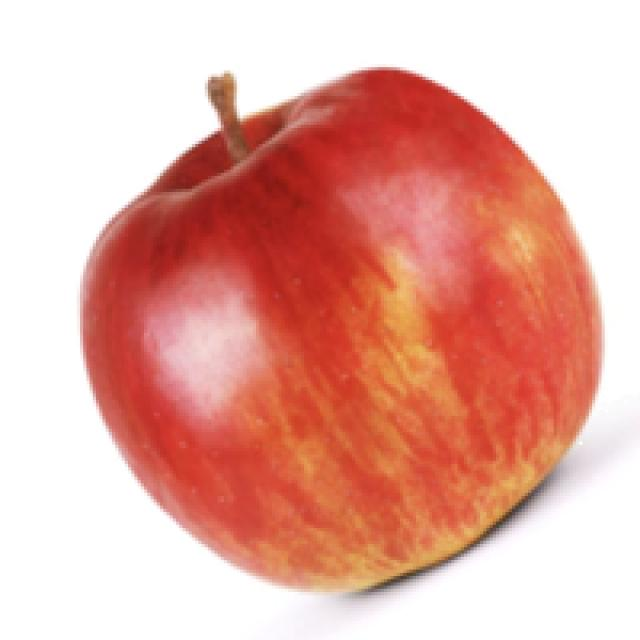apple: (74, 61, 637, 634)
